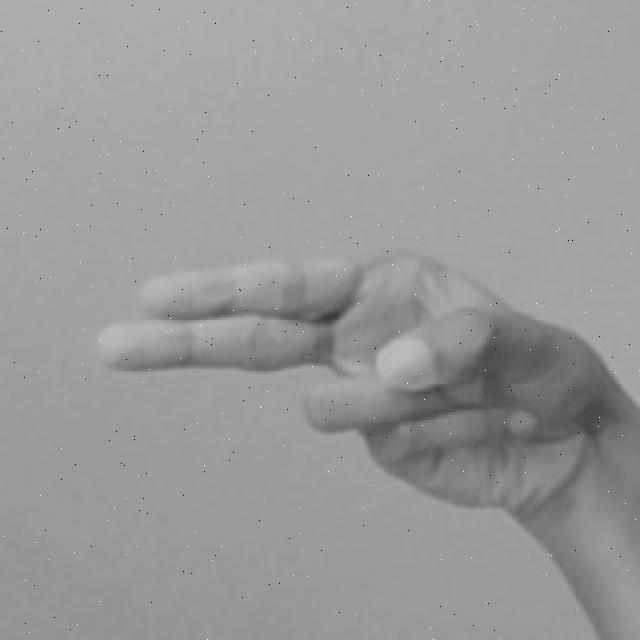H: (84, 235, 639, 640)
